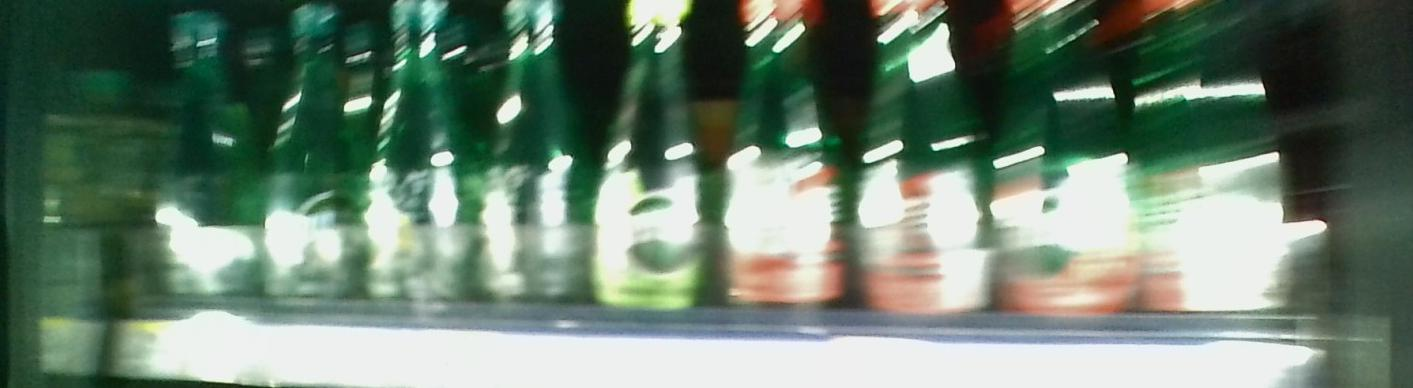bottle: (861, 5, 990, 324), (724, 1, 843, 310), (596, 7, 706, 315), (148, 10, 254, 301), (481, 2, 581, 307), (374, 4, 467, 307), (263, 8, 364, 284)
